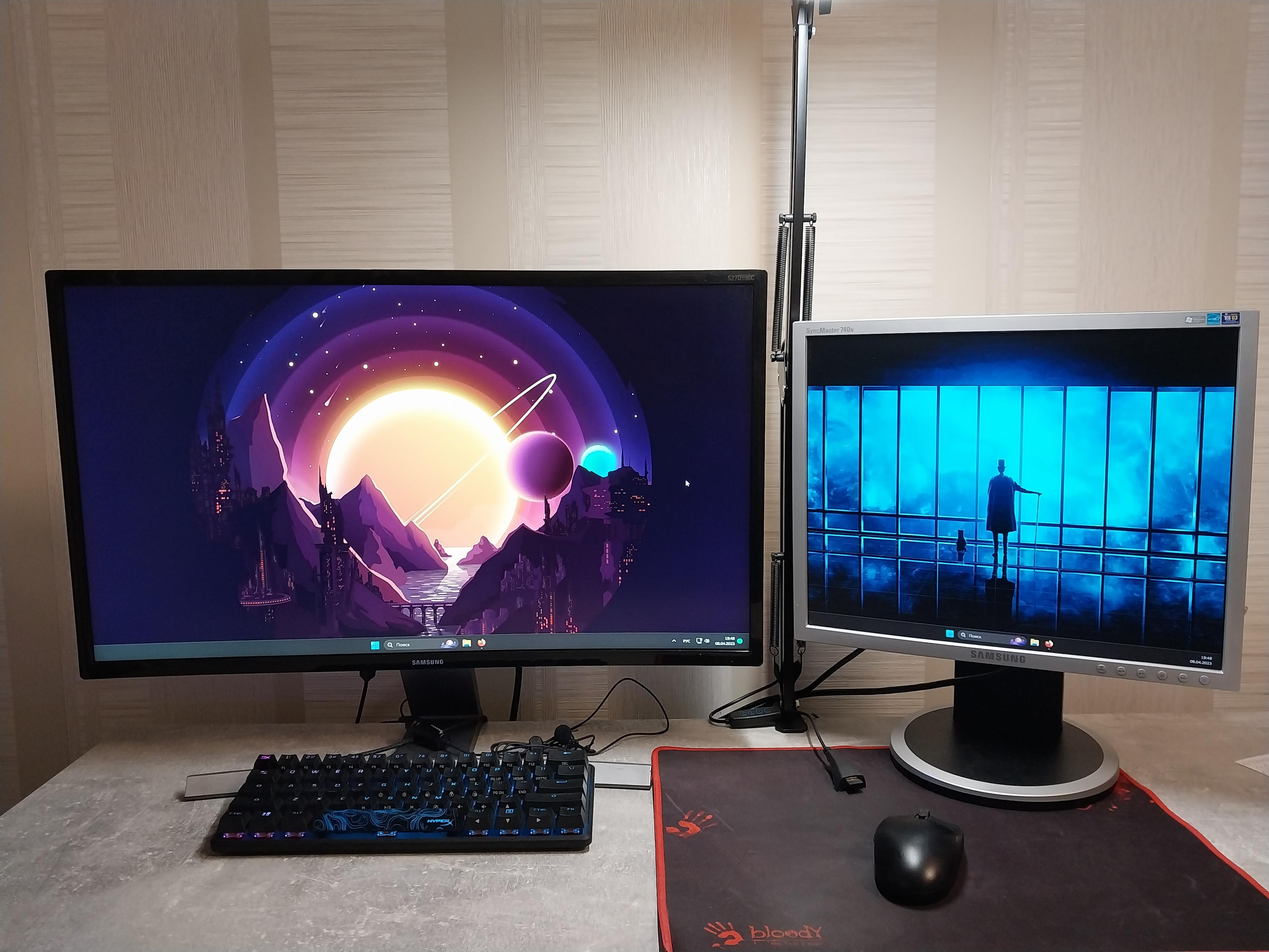monitor: (37, 261, 774, 758), (790, 303, 1263, 826)
